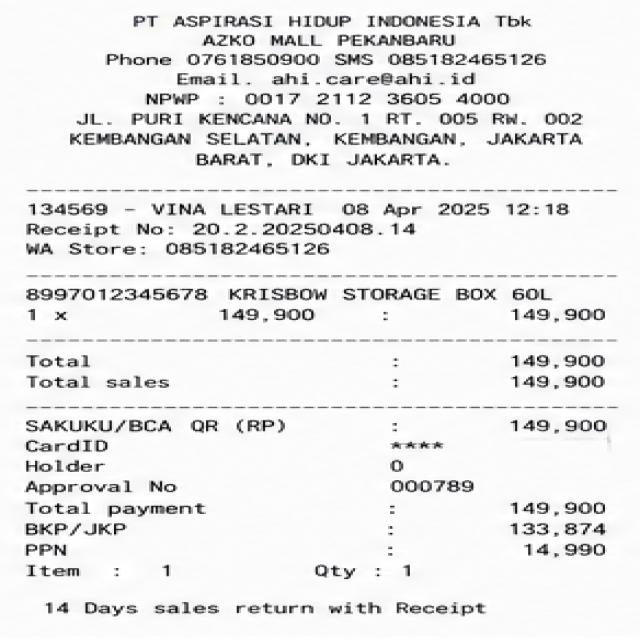date: (341, 197, 577, 216)
store: (124, 11, 582, 51)
total: (18, 501, 624, 518)
